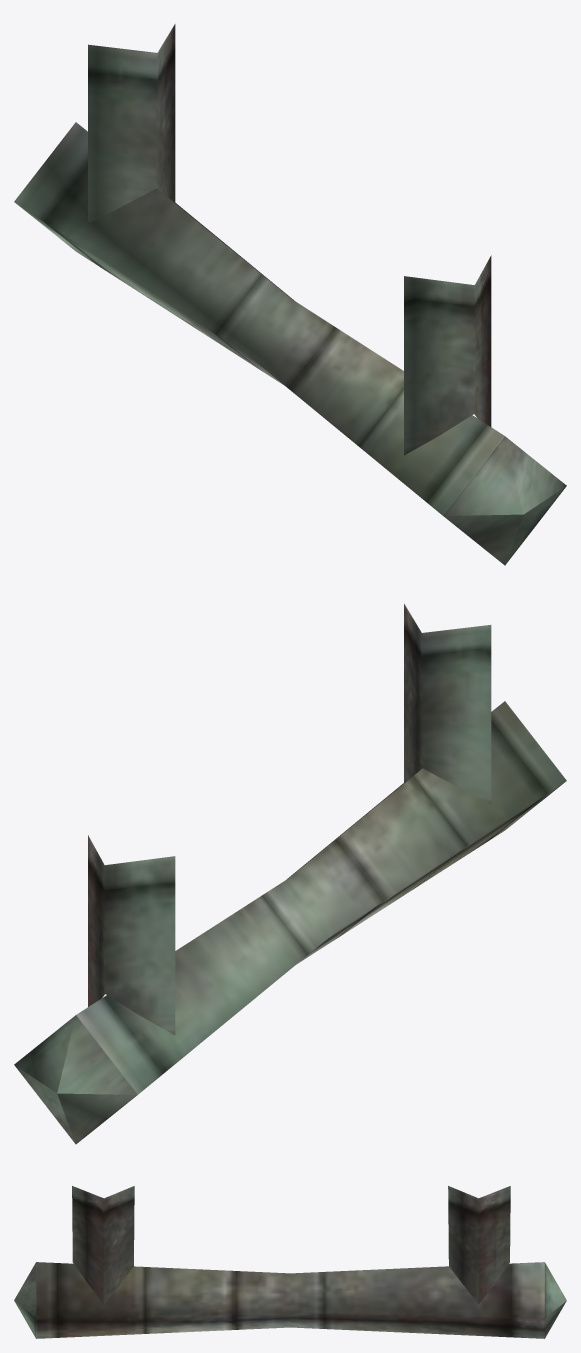
The model's file is prop_doorknob.glb.
3 views of the same model, one above another, from view 1: azimuth 30°, elevation 25°; view 2: azimuth 150°, elevation 25°; view 3: azimuth 270°, elevation 25° (orthographic). The views are drawn at different scales.
Bounding box in the file's own units: 1.97 × 3.92 × 12.84.
Materials: 1 (1 with a texture image).
